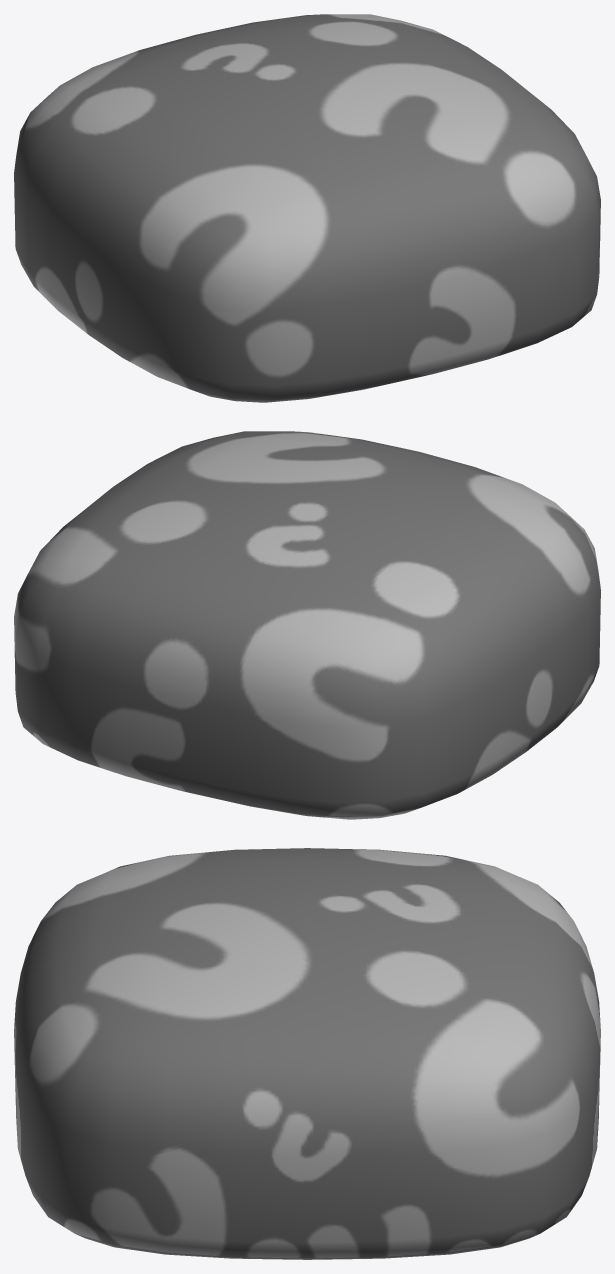
File: square.fbx
3 views of the same model, one above another, from view 1: azimuth 30°, elevation 25°; view 2: azimuth 150°, elevation 25°; view 3: azimuth 270°, elevation 25° (orthographic). The views are drawn at different scales.
Visible parts, largest first — view 1: square_inactive; view 2: square_inactive; view 3: square_inactive.
Part boxes in pixels (x1,y1,x2,y2): square_inactive: (14, 14, 600, 402); square_inactive: (14, 431, 600, 819); square_inactive: (14, 848, 600, 1259).
Bounding box in the file's own units: 72.09 × 33.51 × 72.09.
